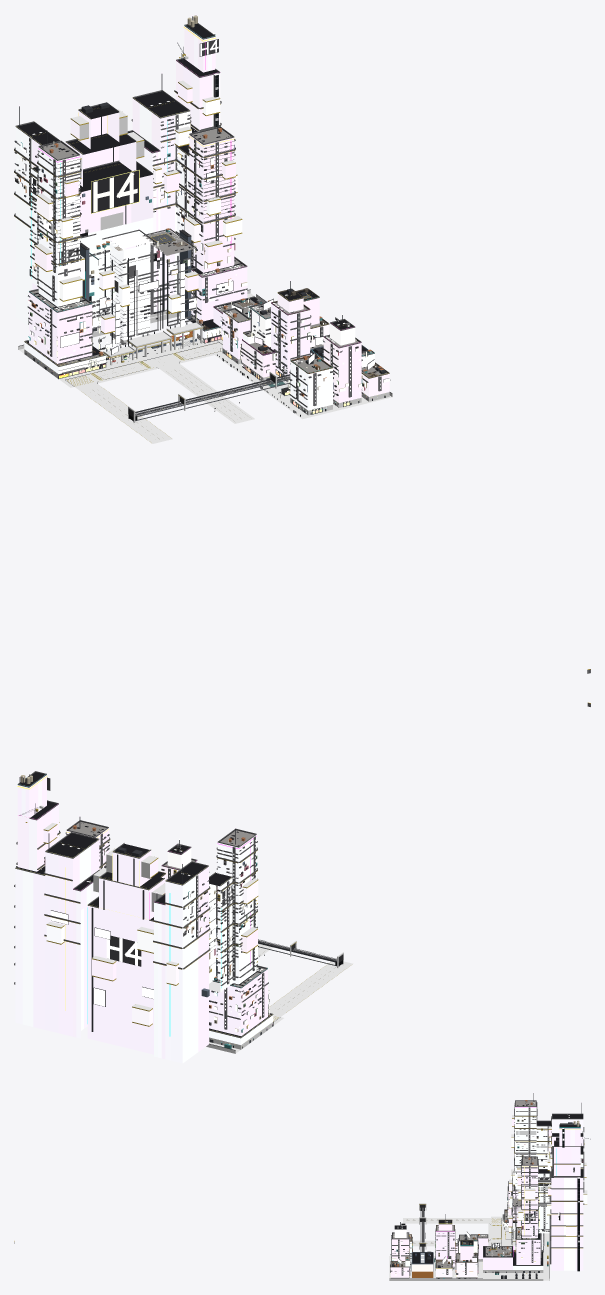
Rendered from world-phone-mega.glb.
3 renders of one model, top to bottom at view 1: azimuth 30°, elevation 25°; view 2: azimuth 150°, elevation 25°; view 3: azimuth 270°, elevation 25°, orthographic. The views are drawn at different scales.
Parts seen in each view (by area): view 1: mega_facade, mega_trim, mega_concrete, mega_roof, mega_asphalt, mega_glow, mega_castconcrete, mega_sidewalk, mega_metal, mega_billboard, mega_plaster, mega_board_frame; view 2: mega_facade, mega_trim, mega_roof, mega_concrete, mega_asphalt, mega_glow, mega_metal, mega_castconcrete, mega_plaster, mega_billboard; view 3: mega_facade, mega_trim, mega_concrete, mega_roof, mega_castconcrete, mega_glow, mega_asphalt, mega_sidewalk, mega_metal, mega_plaster, mega_glass_dark.
Part boxes in pixels (x1,y1,x2,y2): mega_facade: (15,26,389,410); mega_trim: (14,23,392,421); mega_concrete: (18,56,392,422); mega_roof: (17,23,387,372); mega_asphalt: (66,342,254,443); mega_glow: (17,14,389,414); mega_castconcrete: (31,128,386,376); mega_sidewalk: (19,293,391,419); mega_metal: (17,16,385,414); mega_billboard: (43,171,374,412); mega_plaster: (15,122,389,396); mega_board_frame: (43,141,374,416); mega_facade: (15,775,273,1063); mega_trim: (14,771,343,1050); mega_roof: (17,772,271,1036); mega_concrete: (39,805,343,1053); mega_asphalt: (258,943,353,1021); mega_glow: (16,773,267,1032); mega_metal: (19,777,339,1031); mega_castconcrete: (69,821,270,1016); mega_plaster: (44,850,261,1032); mega_billboard: (50,901,260,1006); mega_facade: (390,1107,587,1277); mega_trim: (389,1100,586,1278); mega_concrete: (389,1115,587,1280); mega_roof: (390,1101,583,1267); mega_castconcrete: (391,1101,542,1267); mega_glow: (392,1092,582,1275); mega_asphalt: (403,1218,501,1246); mega_sidewalk: (389,1216,549,1280); mega_metal: (392,1093,590,1278); mega_plaster: (390,1113,583,1274); mega_glass_dark: (562,1129,579,1271).
Bounding box in the file's own units: 226 × 248 × 862.
